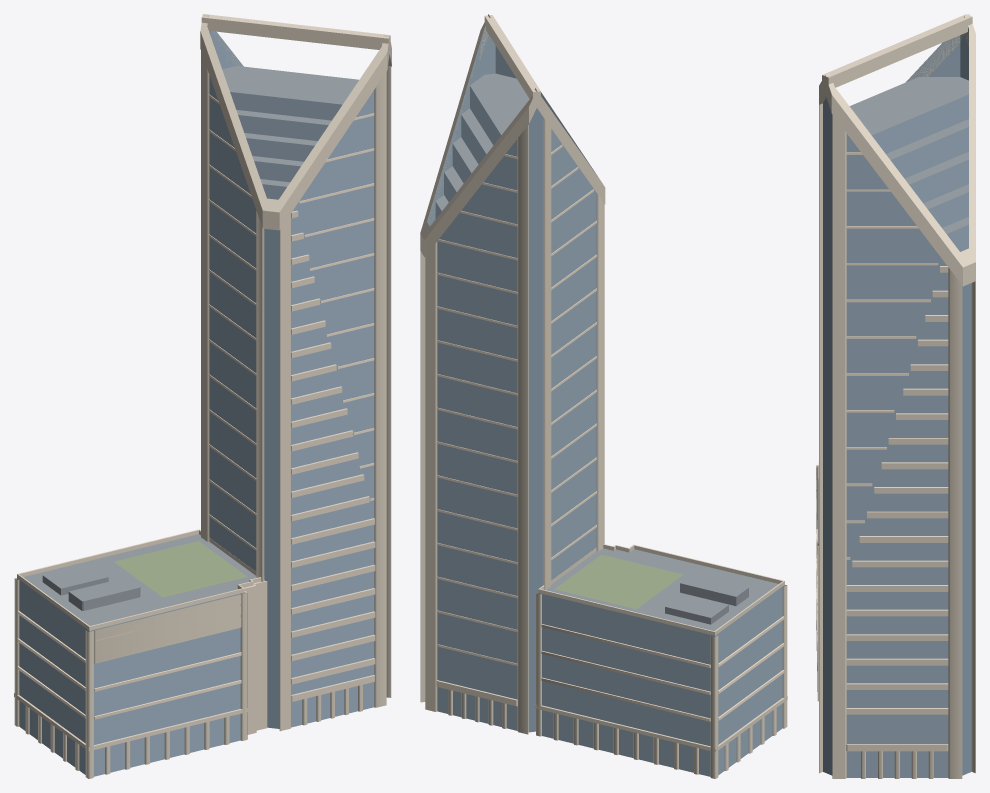
Rendered from duke-energy-center.glb.
3 renders of one model, left to right at view 1: azimuth 30°, elevation 25°; view 2: azimuth 150°, elevation 25°; view 3: azimuth 270°, elevation 25°, orthographic. The views are drawn at different scales.
Visible parts, largest first — view 1: Duke Energy Center; view 2: Duke Energy Center; view 3: Duke Energy Center.
Boxes of the visible parts, x1=… form: Duke Energy Center: x1=14, y1=14, x2=391, y2=778; Duke Energy Center: x1=420, y1=14, x2=787, y2=778; Duke Energy Center: x1=816, y1=14, x2=975, y2=778.
Size of the model in its own units: 117 by 240 by 49.56.
